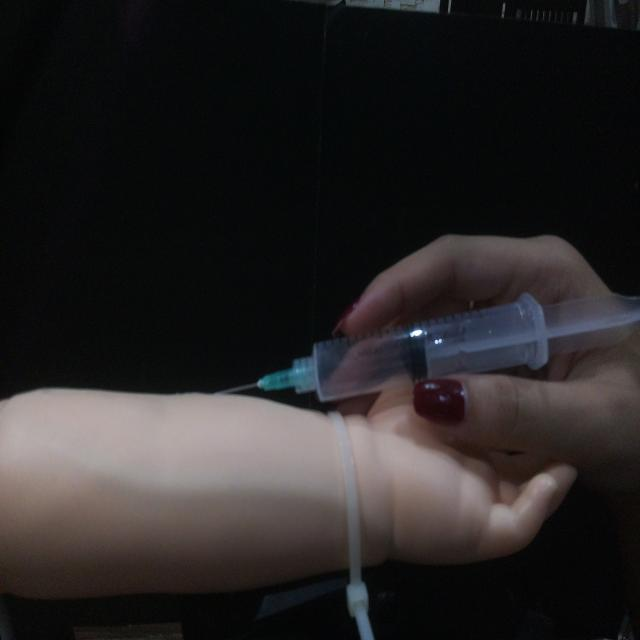16deg: (215, 286, 638, 404)
